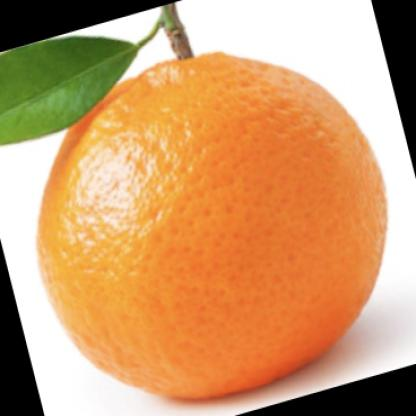orange: (17, 44, 391, 403)
